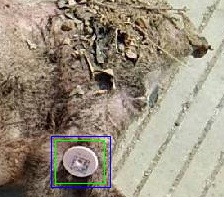text: (55, 140, 104, 183)
